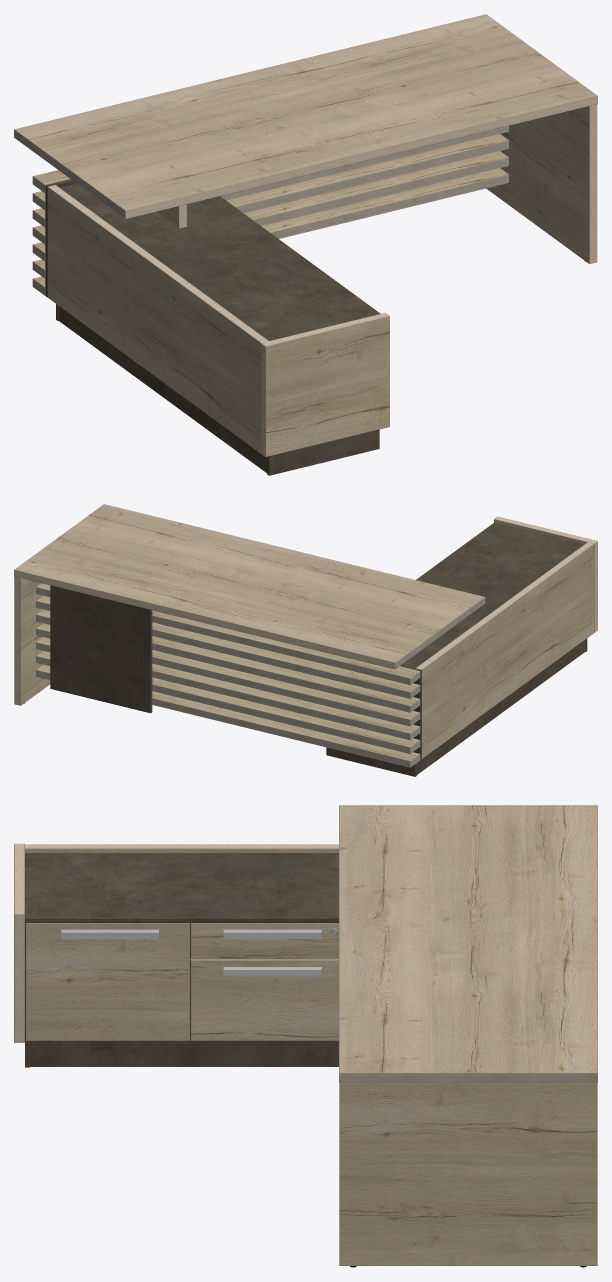
3 views of the same model, one above another, from view 1: azimuth 30°, elevation 25°; view 2: azimuth 150°, elevation 25°; view 3: azimuth 270°, elevation 25° (orthographic). The views are drawn at different scales.
Parts seen in each view (by area): view 1: Box1578995149, Line1789532198, Line1789532211, Line1789532197, Line1789532200, Line1789532205, Line1789532206, Line1789532207, Line1789532188, Line1789532184, Line1789532204; view 2: Box1578995149, Line1789532198, Line1789532201, Line1789532211, Line1789532203, Line1789532208, Line1789532204, Line1789532207, Line1789532205, Line1789532206, Line1789532209, Line1789532200 (+4 smaller); view 3: Box1578995149, Line1789532200, Line1789532211, Line1789532193, Line1789532195, Line1789532187, Line1789532194, Line1789532198, Line1789532197, Plane1017, Plane1016, Plane1018.
Part boxes in pixels (left/top/right/bottom): Box1578995149: left=14, top=14, right=597, bottom=219; Line1789532198: left=47, top=185, right=268, bottom=453; Line1789532211: left=60, top=183, right=380, bottom=340; Line1789532197: left=261, top=312, right=389, bottom=457; Line1789532200: left=486, top=104, right=597, bottom=264; Line1789532205: left=32, top=134, right=508, bottom=261; Line1789532206: left=32, top=151, right=508, bottom=278; Line1789532207: left=32, top=168, right=508, bottom=295; Line1789532188: left=58, top=306, right=267, bottom=473; Line1789532184: left=267, top=429, right=379, bottom=475; Line1789532204: left=32, top=126, right=508, bottom=244; Box1578995149: left=14, top=504, right=485, bottom=669; Line1789532198: left=416, top=542, right=593, bottom=758; Line1789532201: left=50, top=585, right=152, bottom=713; Line1789532211: left=402, top=522, right=584, bottom=668; Line1789532203: left=36, top=609, right=420, bottom=712; Line1789532208: left=36, top=595, right=420, bottom=698; Line1789532204: left=36, top=623, right=420, bottom=726; Line1789532207: left=36, top=664, right=420, bottom=767; Line1789532205: left=36, top=637, right=420, bottom=740; Line1789532206: left=36, top=651, right=420, bottom=753; Line1789532209: left=36, top=583, right=420, bottom=684; Line1789532200: left=14, top=576, right=50, bottom=705; Box1578995149: left=339, top=805, right=597, bottom=1082; Line1789532200: left=339, top=1082, right=597, bottom=1265; Line1789532211: left=25, top=853, right=338, bottom=922; Line1789532193: left=25, top=923, right=189, bottom=1040; Line1789532195: left=190, top=959, right=338, bottom=1040; Line1789532187: left=30, top=1039, right=338, bottom=1066; Line1789532194: left=190, top=923, right=338, bottom=959; Line1789532198: left=25, top=844, right=338, bottom=852; Line1789532197: left=14, top=843, right=24, bottom=1042; Plane1017: left=223, top=929, right=321, bottom=939; Plane1016: left=61, top=929, right=158, bottom=939; Plane1018: left=223, top=967, right=321, bottom=976.
Bounding box in the file's own units: 2.2 × 0.7499 × 2.03.
Materials: 8 (6 with a texture image).
